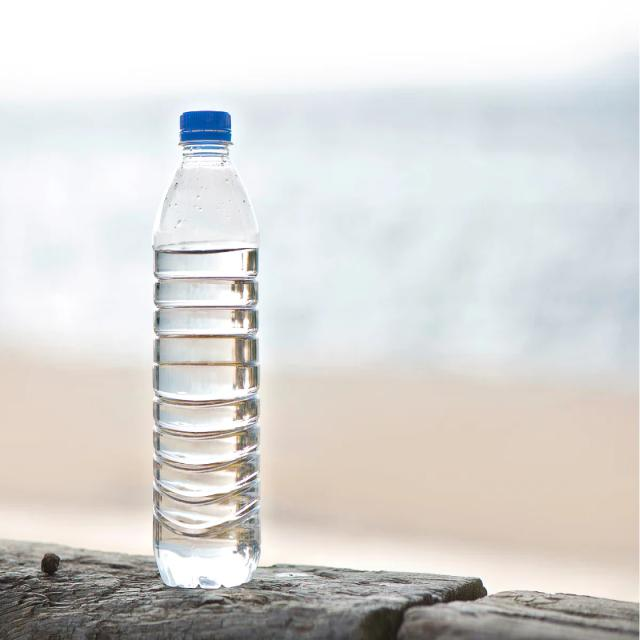bottle: (153, 105, 261, 591)
